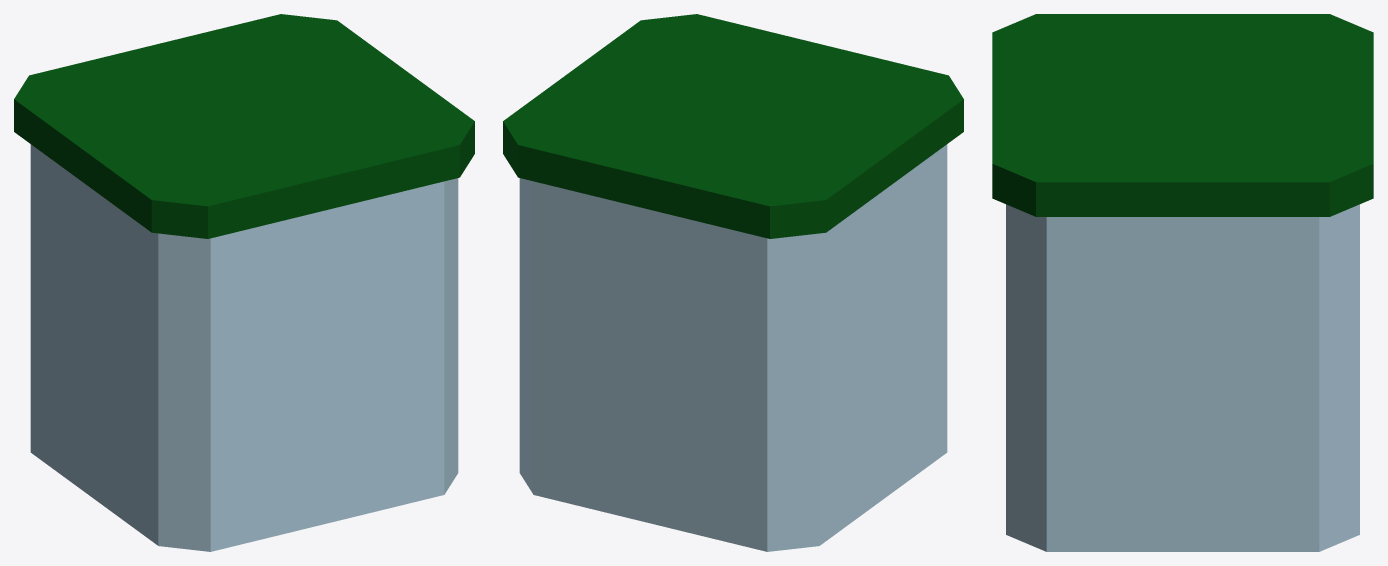
File: Dentadura.fbx
The picture shows the model from 3 angles, left to right: view 1: azimuth 30°, elevation 25°; view 2: azimuth 150°, elevation 25°; view 3: azimuth 270°, elevation 25°; orthographic projection. The views are drawn at different scales.
Parts seen in each view (by area): view 1: Dentadura; view 2: Dentadura; view 3: Dentadura.
Part boxes in pixels (x1=…): Dentadura: x1=14, y1=14, x2=474, y2=551; Dentadura: x1=503, y1=14, x2=963, y2=551; Dentadura: x1=992, y1=14, x2=1373, y2=551.
Bounding box in the file's own units: 21.39 × 22.29 × 20.51.
Materials: 2 (1 with a texture image).
